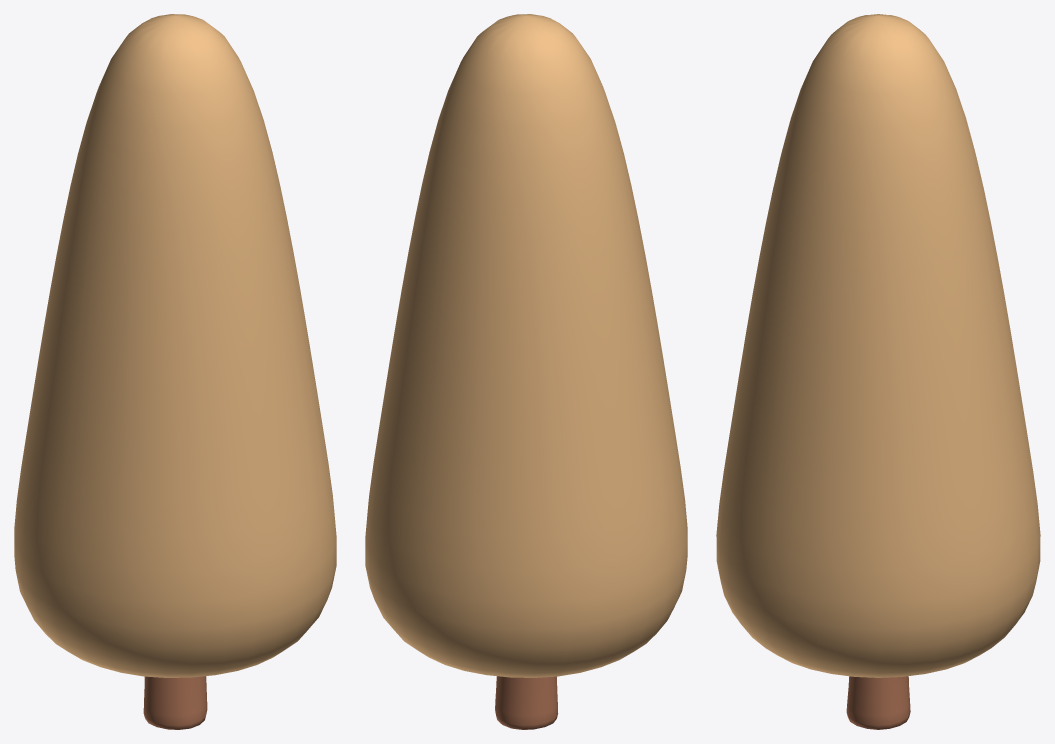
The model's file is TreeSimple_02.fbx.
The picture shows the model from 3 angles, left to right: view 1: azimuth 30°, elevation 25°; view 2: azimuth 150°, elevation 25°; view 3: azimuth 270°, elevation 25°; orthographic projection.
Parts seen in each view (by area): view 1: TreeSimple_02_LOD0; view 2: TreeSimple_02_LOD0; view 3: TreeSimple_02_LOD0.
Part boxes in pixels (box(x1,y1,x2,y2)): TreeSimple_02_LOD0: box(14, 14, 336, 729); TreeSimple_02_LOD0: box(365, 14, 687, 729); TreeSimple_02_LOD0: box(716, 14, 1040, 729).
Size of what is drawn, in the model's own units: 449 by 1074 by 449.
